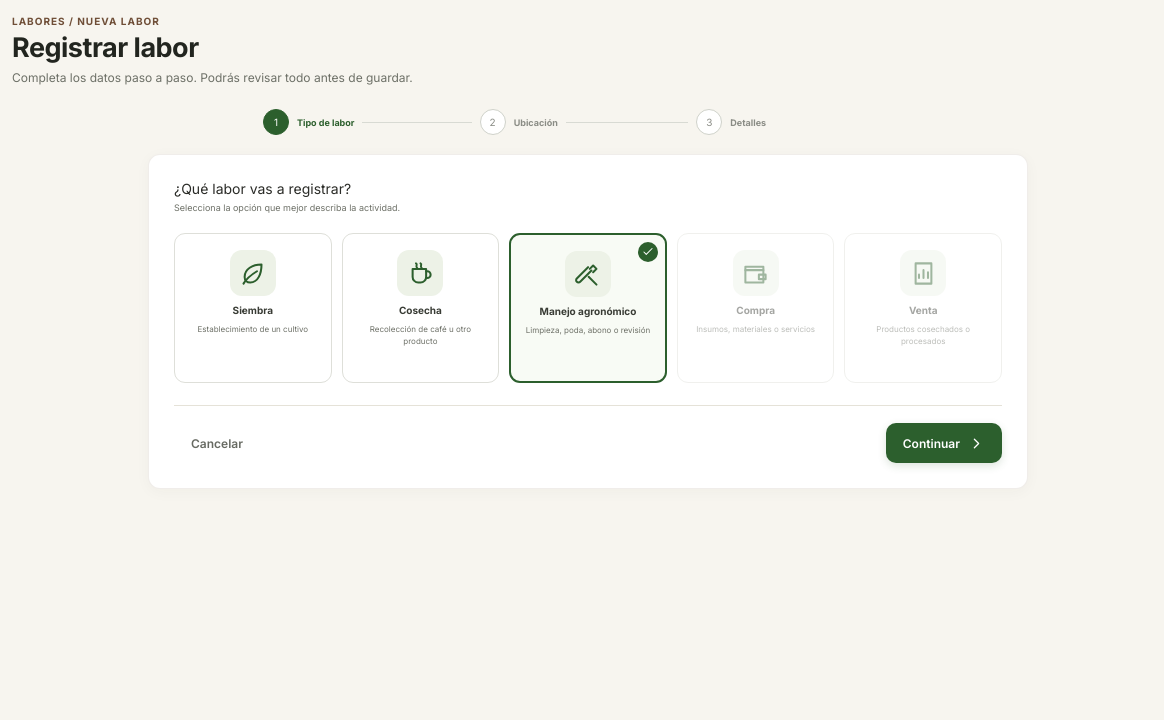
Test: LaborWizard › un manejo agronómico sin cultivo se registra sobre el lote (regla xor)
This screenshot has width=1164, height=720.
Step 1. Click the radio button labelled "Manejo agronómico Limpieza, poda, abono o revisión" → (588, 308), box [509,233,667,383]
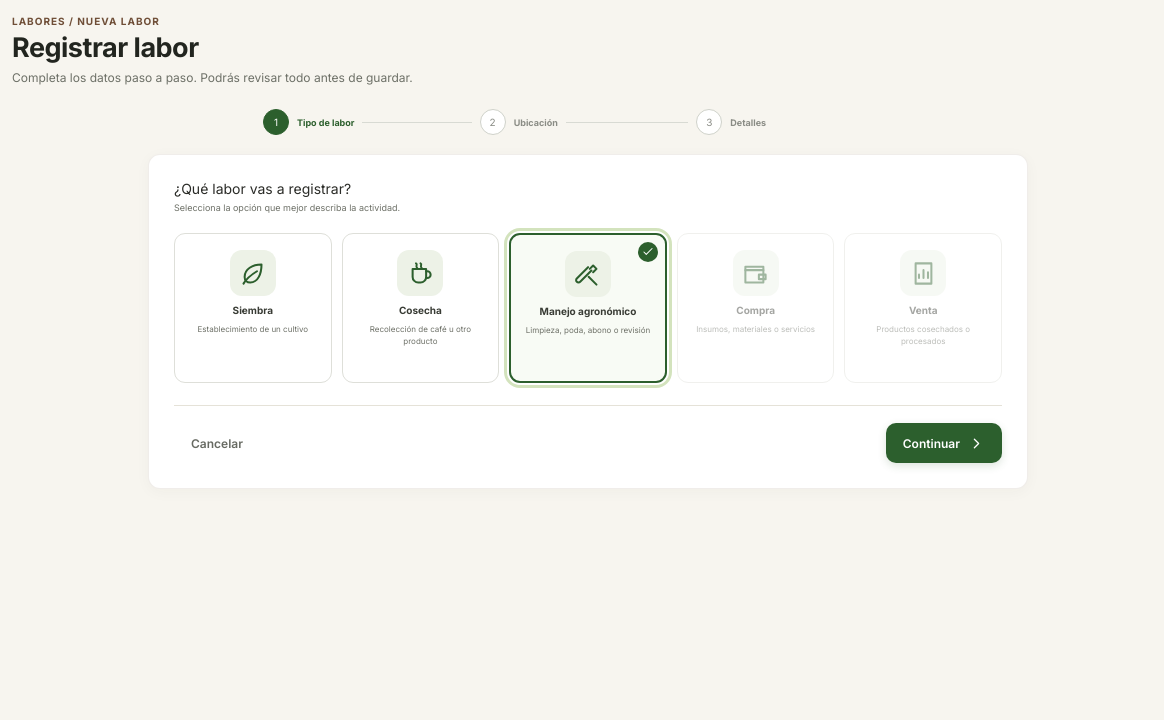
Step 2. Click the button "Continuar" → (944, 443), box [886,423,1002,463]
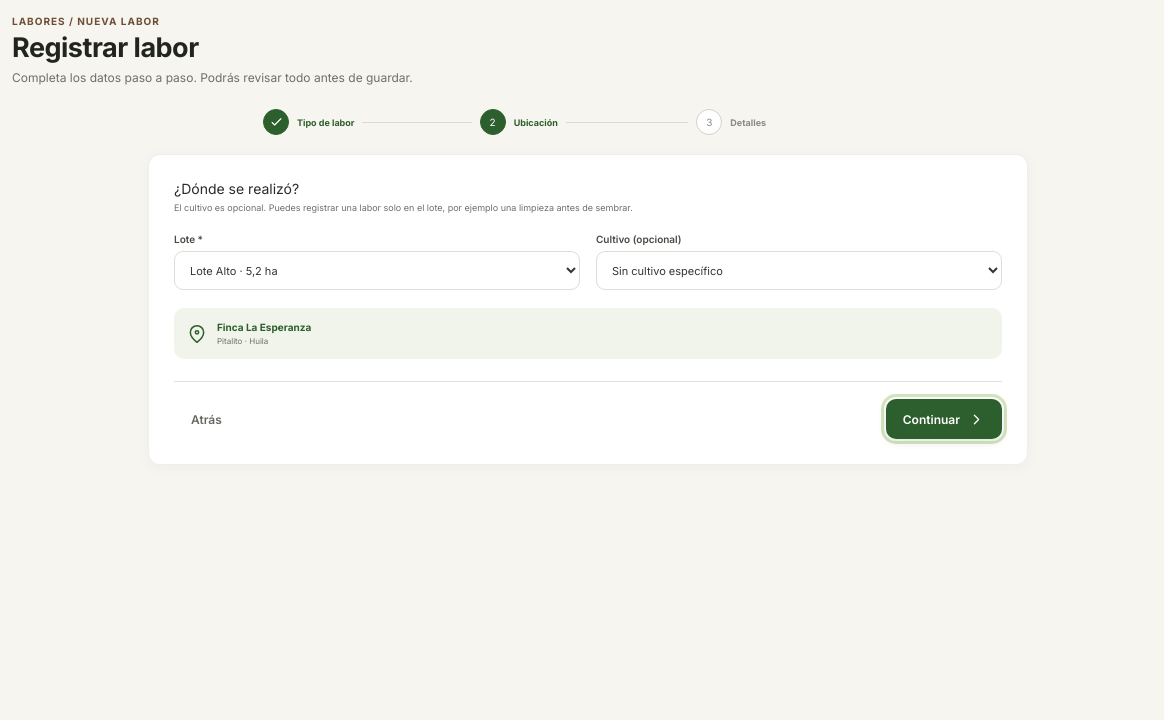
Step 3. Click the button "Continuar" → (944, 419), box [886,399,1002,439]
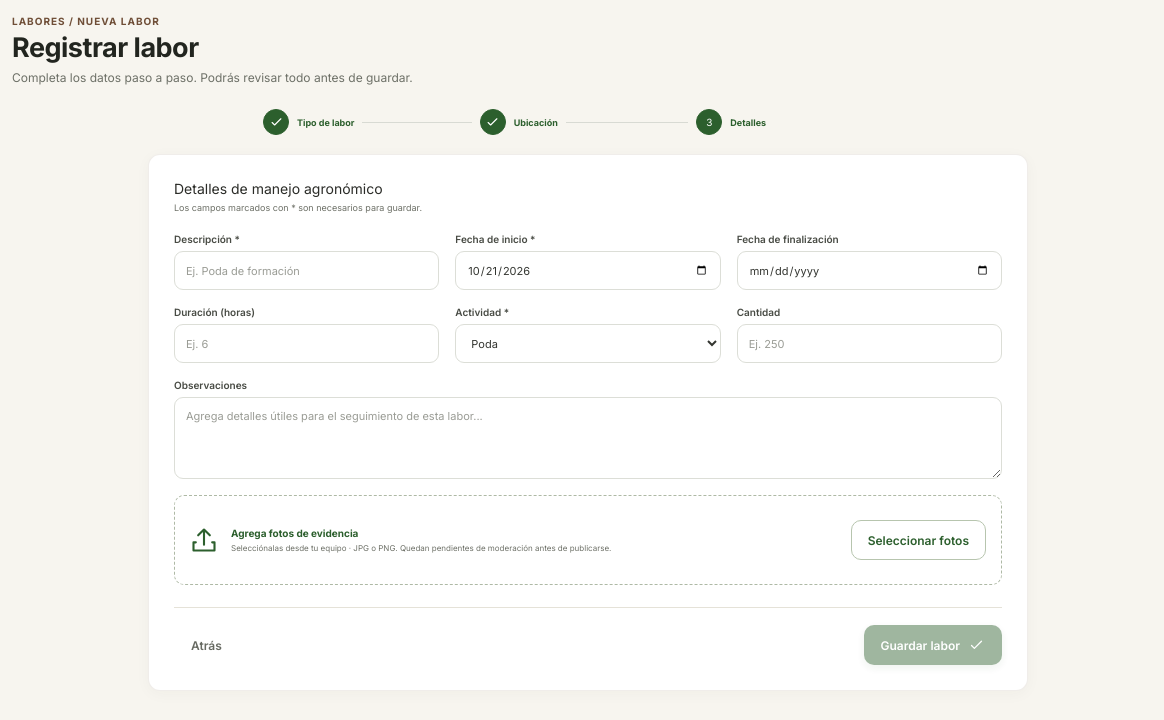
Step 4. Select "Limpieza" in the dropdown labelled "Actividad *" → (588, 344), box [455,324,721,363]
Step 5. Type "Limpieza antes de sembrar" into the field labelled "Descripción *" → (307, 271), box [174,251,439,290]
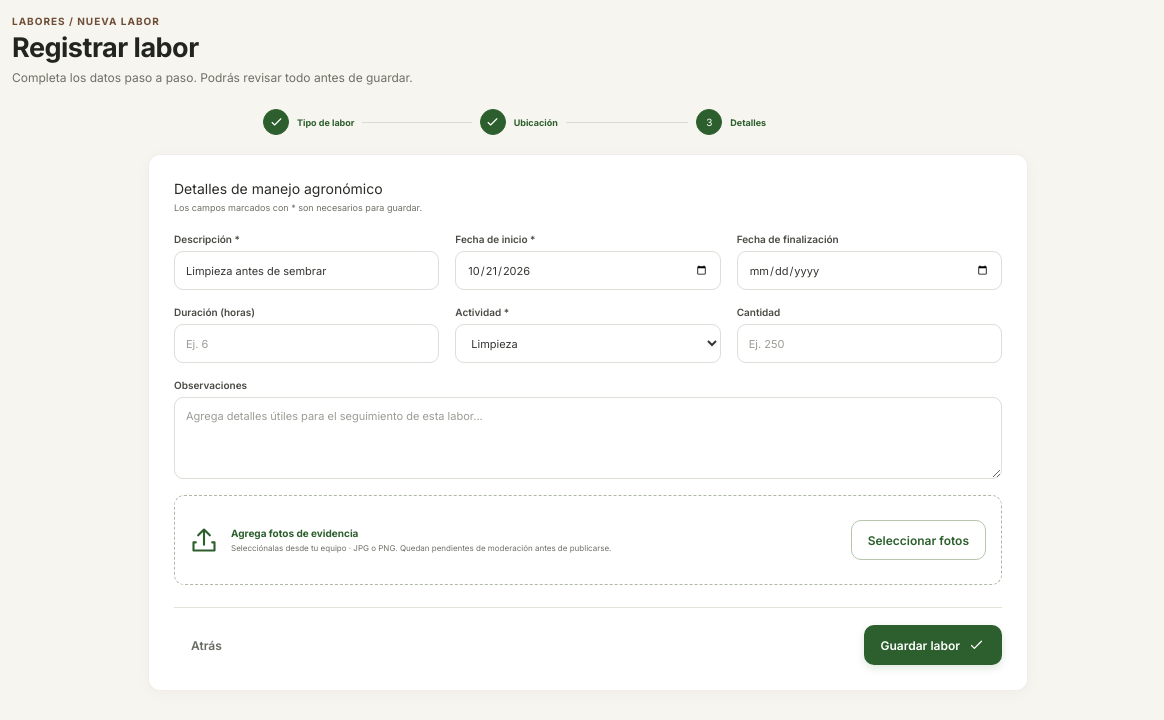
Step 6. Type "1,5" into the field labelled "Duración (horas)" → (307, 344), box [174,324,439,363]
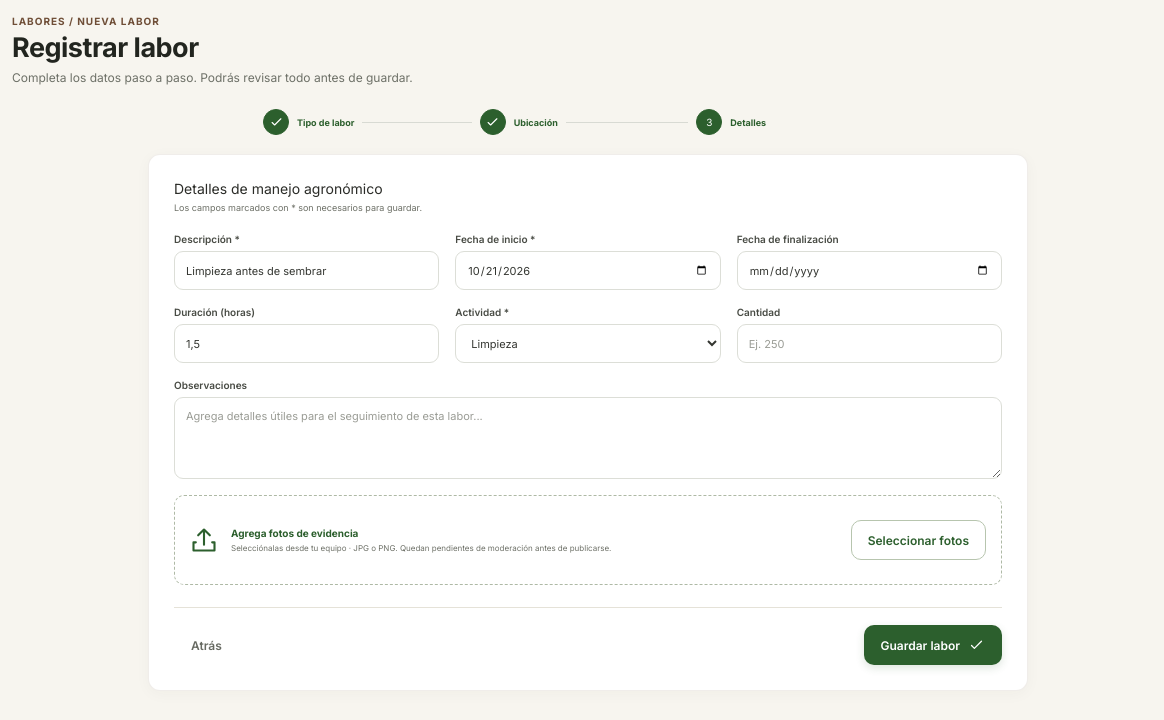
Step 7. Click the button "Guardar labor" → (933, 645), box [864,625,1002,665]
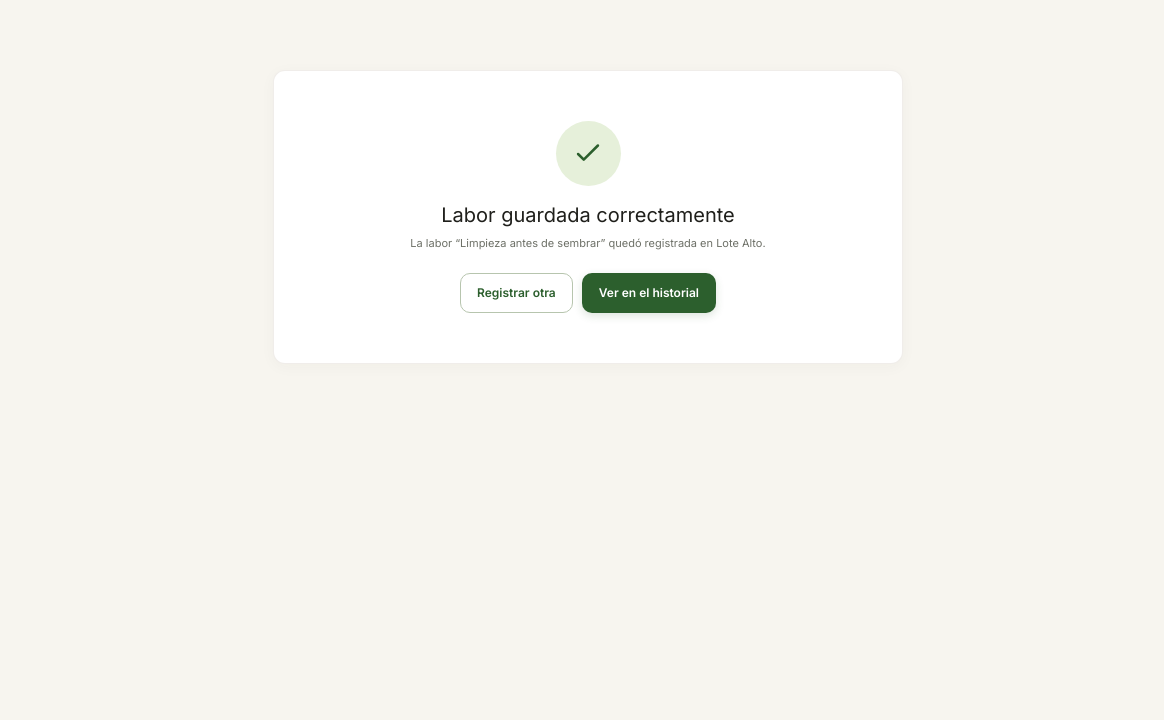
expect the heading "Labor guardada correctamente" is shown: met, box [441,203,735,227]
